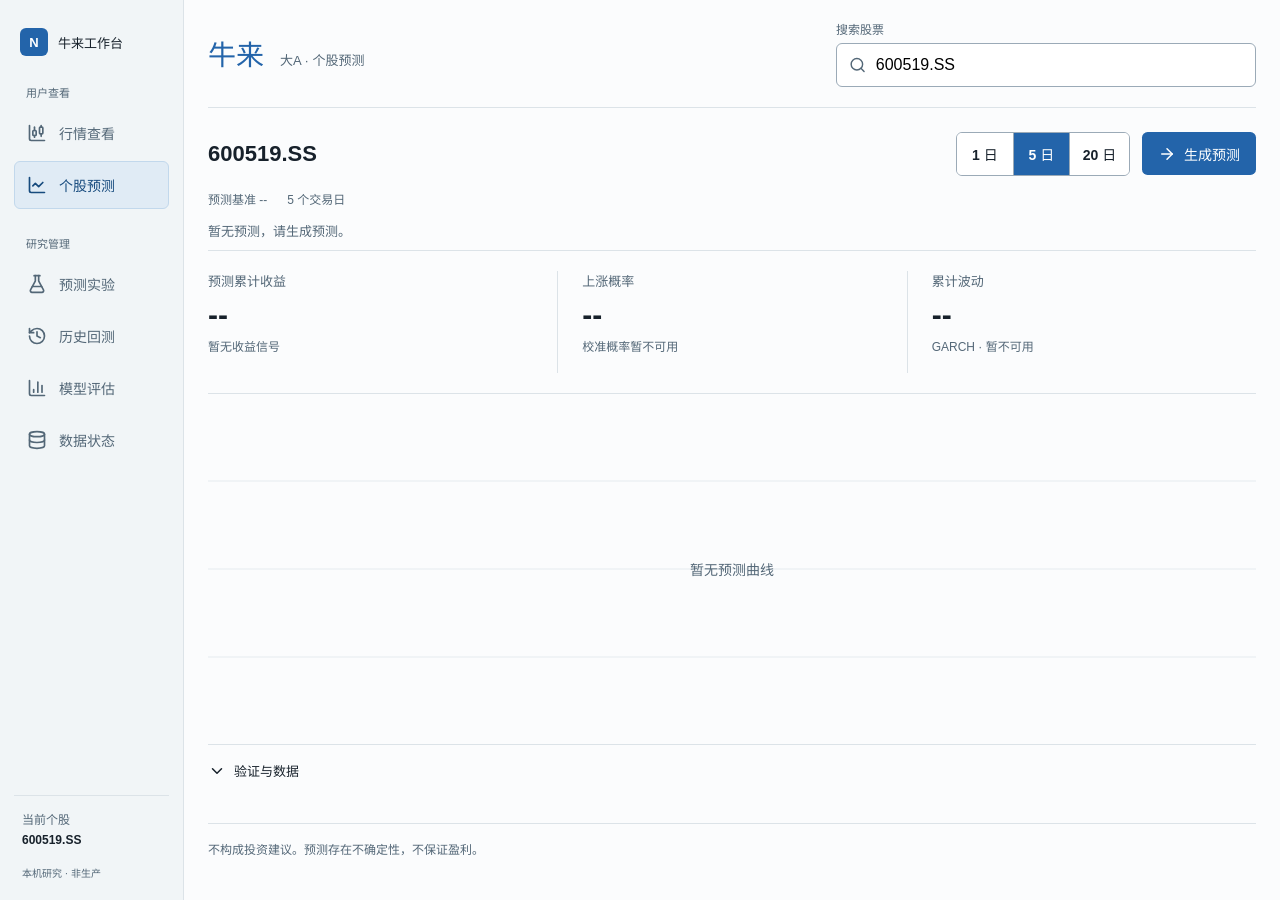
single-stock prediction workspace at the HTTP boundary › reports a failed job without turning absent numbers into a successful prediction
Click the button "生成预测": (1199, 154) [1142,132,1256,175]
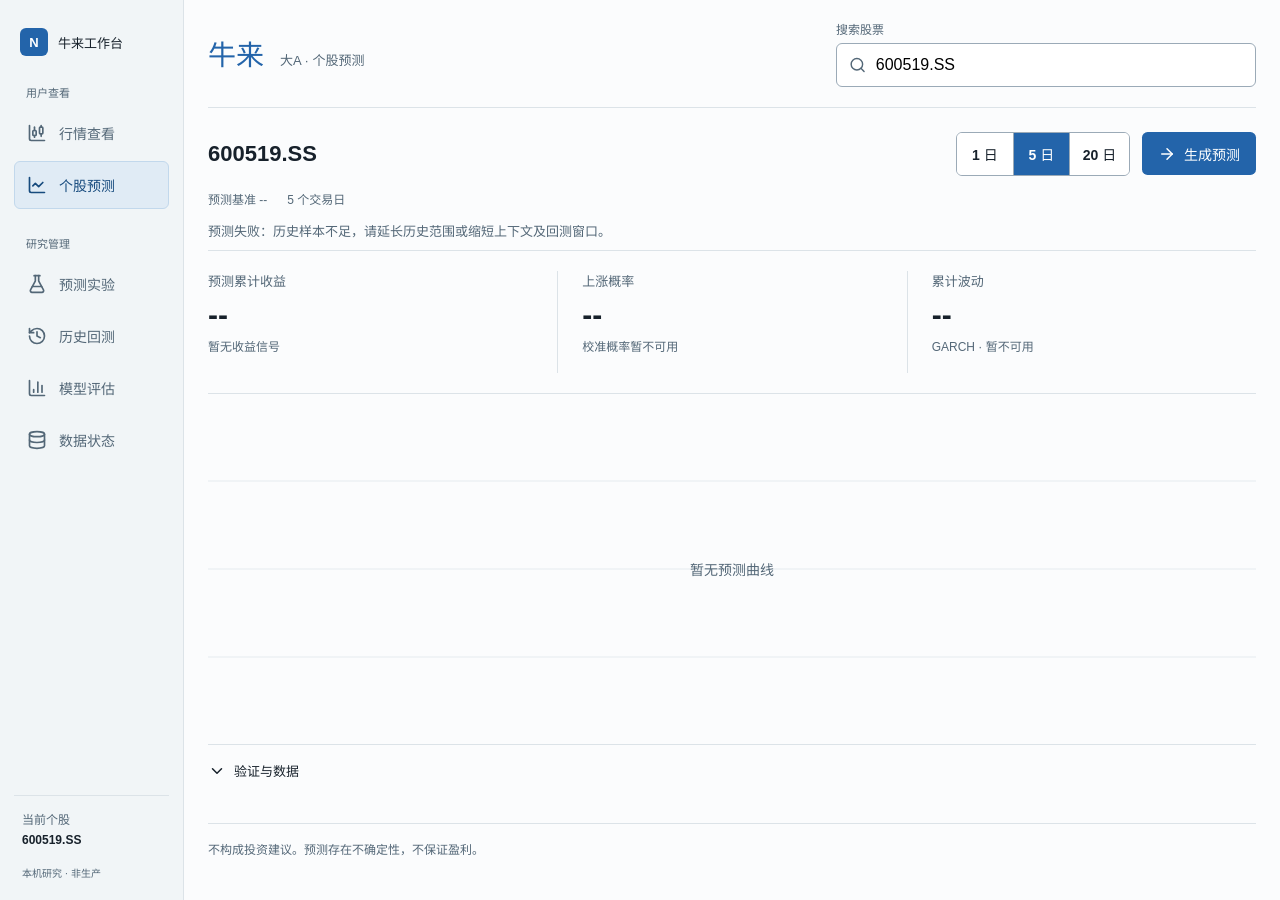
Expected: the text "--" below "预测累计收益" is shown, [208,298,228,331]
Expected: the text "预测失败：历史样本不足，请延长历史范围或缩短上下文及回测窗口。" is shown, [208,224,611,239]
